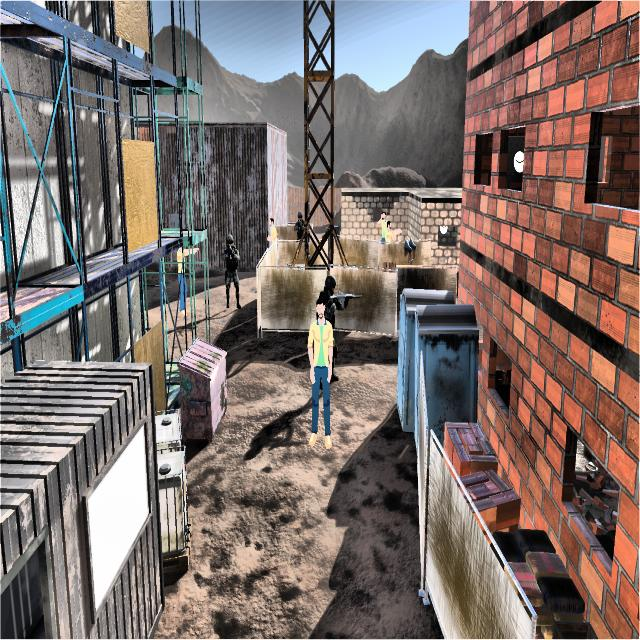bad: (219, 217, 247, 311), (316, 272, 340, 324), (292, 208, 308, 245)
good: (303, 292, 339, 448), (167, 249, 195, 318), (378, 198, 395, 248), (264, 212, 280, 257)
